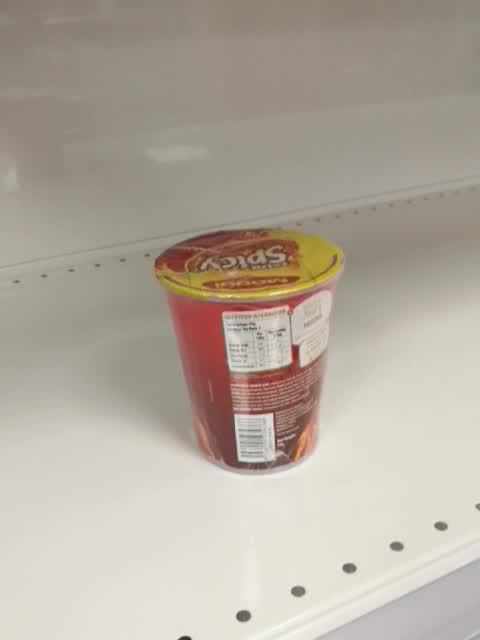maggi: (153, 228, 346, 477)
